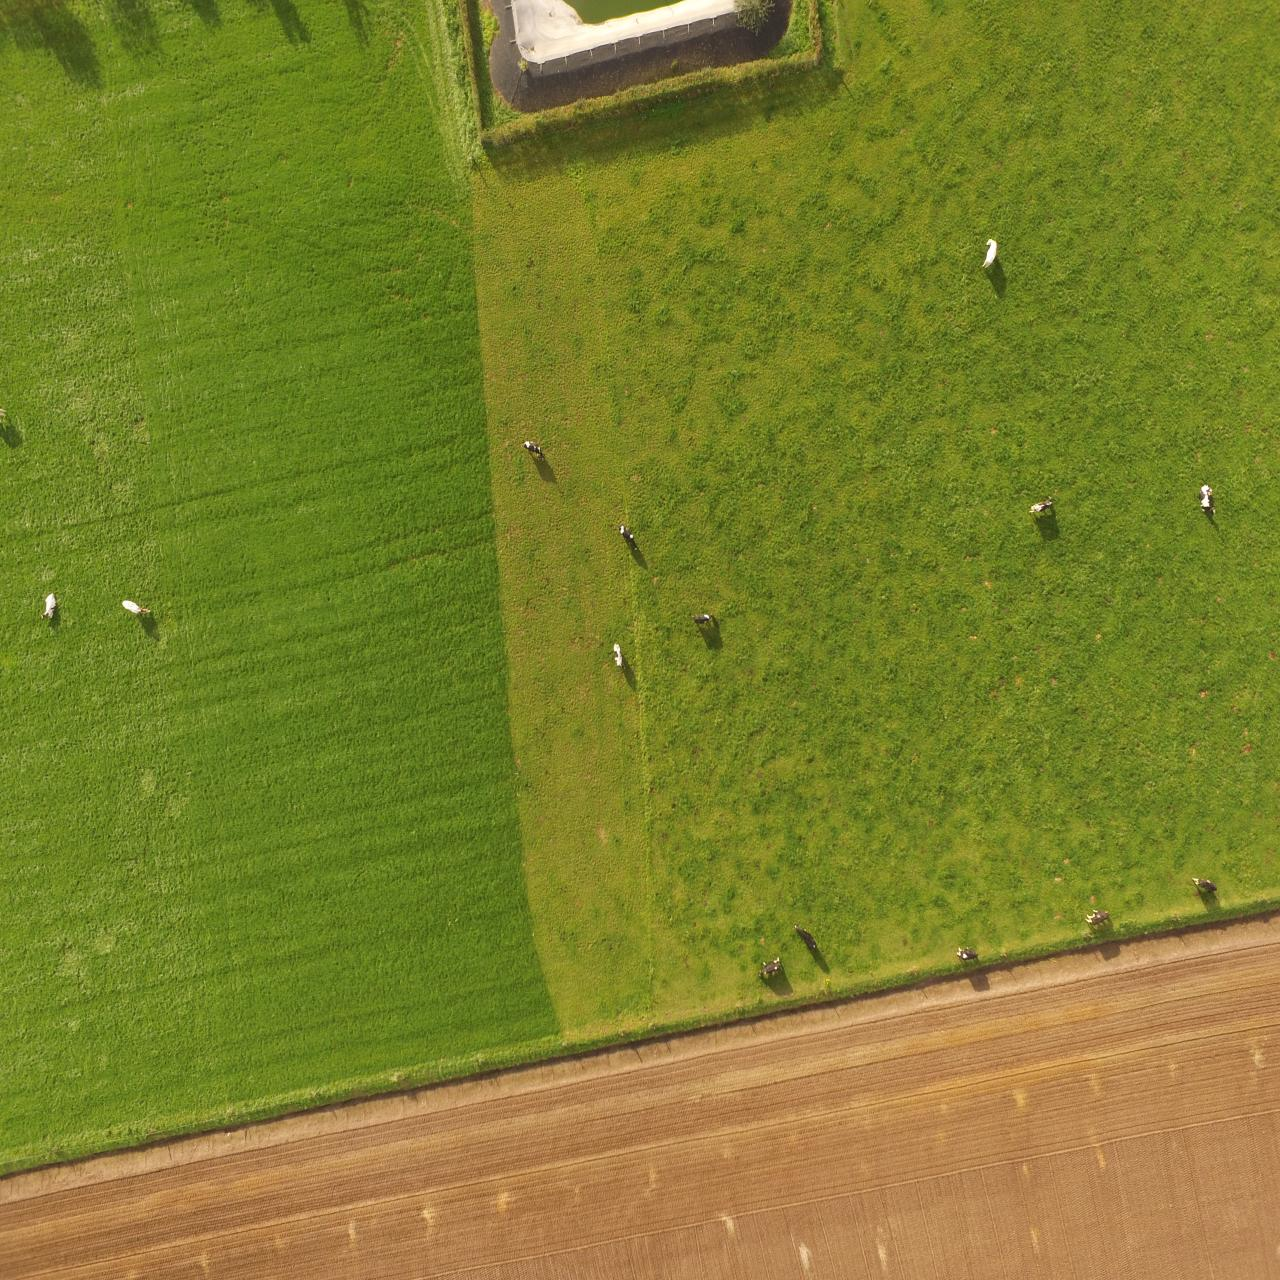cow: (690, 604, 727, 641), (783, 918, 823, 952), (1026, 490, 1055, 531), (1191, 864, 1220, 905), (1082, 899, 1114, 937), (519, 425, 546, 469), (39, 581, 60, 635), (120, 595, 150, 631), (618, 517, 640, 565), (1197, 478, 1218, 529), (760, 948, 783, 989), (608, 636, 634, 673), (980, 233, 999, 277), (955, 941, 982, 971)
